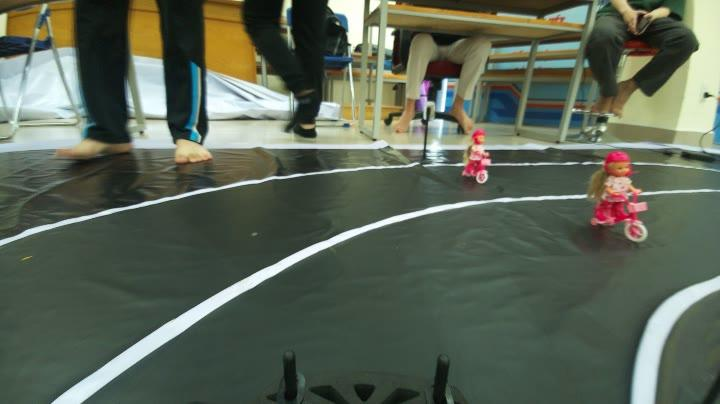pedestrian: (578, 148, 654, 240), (449, 126, 507, 191)
